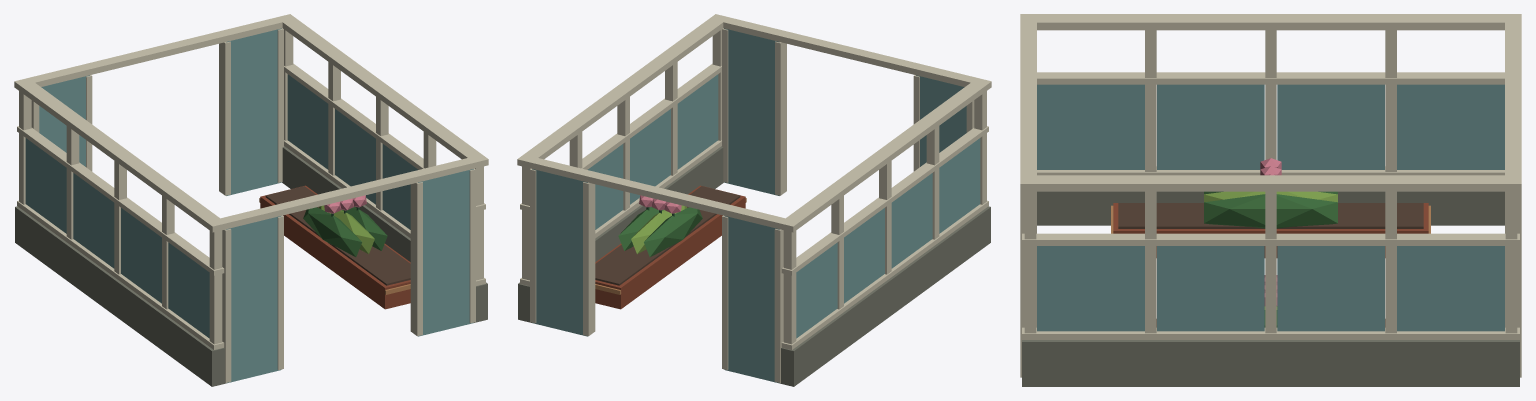
The model's file is Backyard_GreenhousePassage_Standard.glb.
3 renders of one model, left to right at view 1: azimuth 30°, elevation 25°; view 2: azimuth 150°, elevation 25°; view 3: azimuth 270°, elevation 25°, orthographic. The views are drawn at different scales.
Visible parts, largest first — view 1: Backyard_GreenhousePassage_Standard; view 2: Backyard_GreenhousePassage_Standard; view 3: Backyard_GreenhousePassage_Standard.
Part boxes in pixels (<box>): Backyard_GreenhousePassage_Standard: <box>14,14,488,386</box>; Backyard_GreenhousePassage_Standard: <box>517,14,991,386</box>; Backyard_GreenhousePassage_Standard: <box>1020,14,1521,386</box>.
Bounding box in the file's own units: 4.85 × 2.7 × 6.04.
